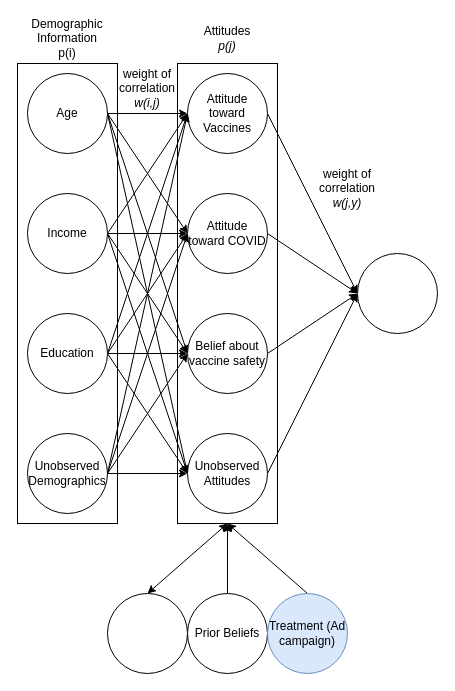
Some shapes in this 455 by 691 pixel diagram are drawn without their labels. Each missing label, with the box of its shape:
Network Interference: (106, 592, 188, 674)
Tendency to Vaccine p( y): (356, 252, 438, 334)
